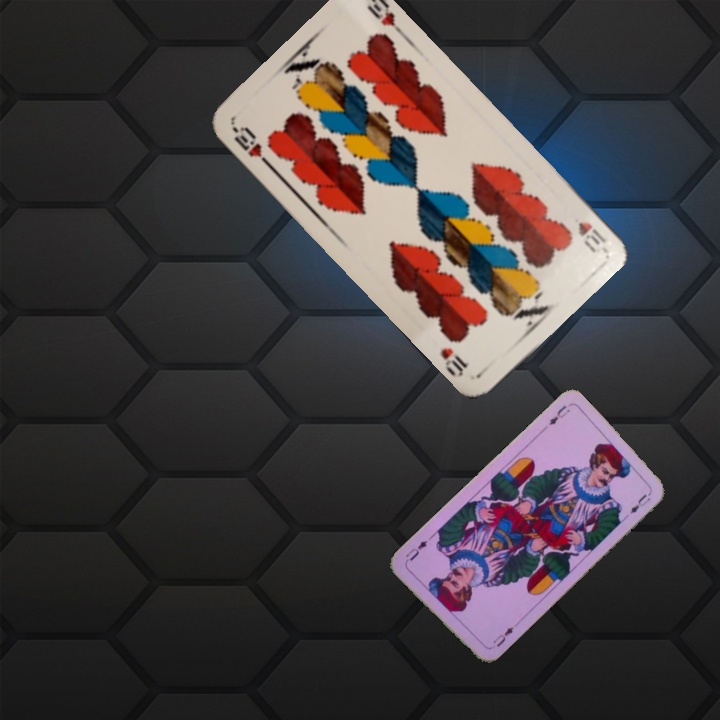EU: (489, 620, 519, 650), (544, 401, 572, 428)
H10: (228, 122, 274, 170), (573, 218, 609, 255)
